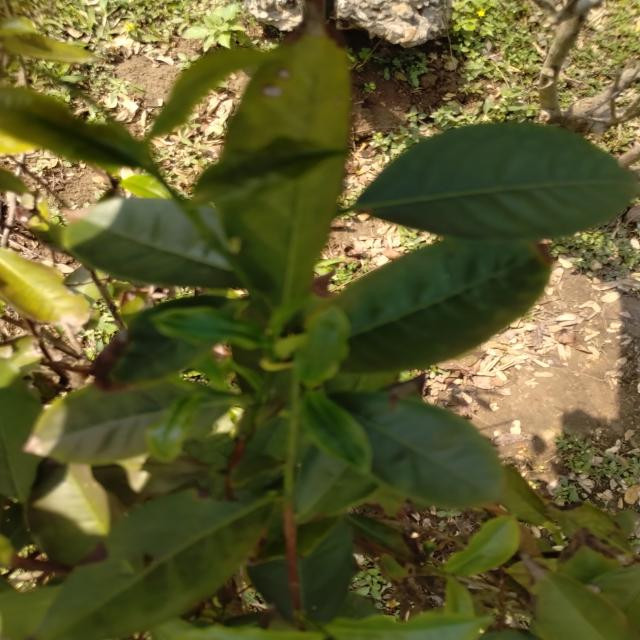Leaf: (193, 21, 350, 306), (35, 490, 273, 640), (354, 122, 638, 241), (332, 238, 550, 373), (330, 391, 501, 508), (24, 380, 239, 465), (63, 198, 239, 288), (0, 86, 155, 170), (149, 49, 266, 137), (26, 460, 111, 565), (534, 572, 640, 640), (0, 248, 89, 328), (296, 445, 378, 524), (299, 519, 356, 623), (0, 365, 42, 501), (303, 391, 372, 473), (326, 610, 489, 640), (153, 306, 264, 349), (444, 516, 520, 575), (294, 306, 349, 386), (551, 503, 630, 553), (500, 465, 548, 525), (248, 559, 292, 620)
